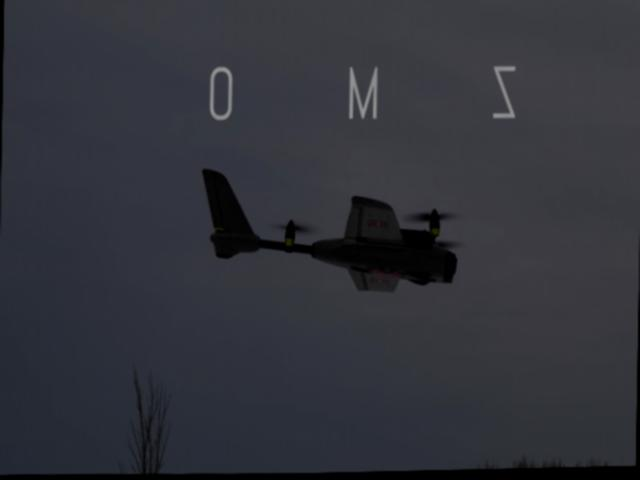plane: (200, 167, 460, 299)
